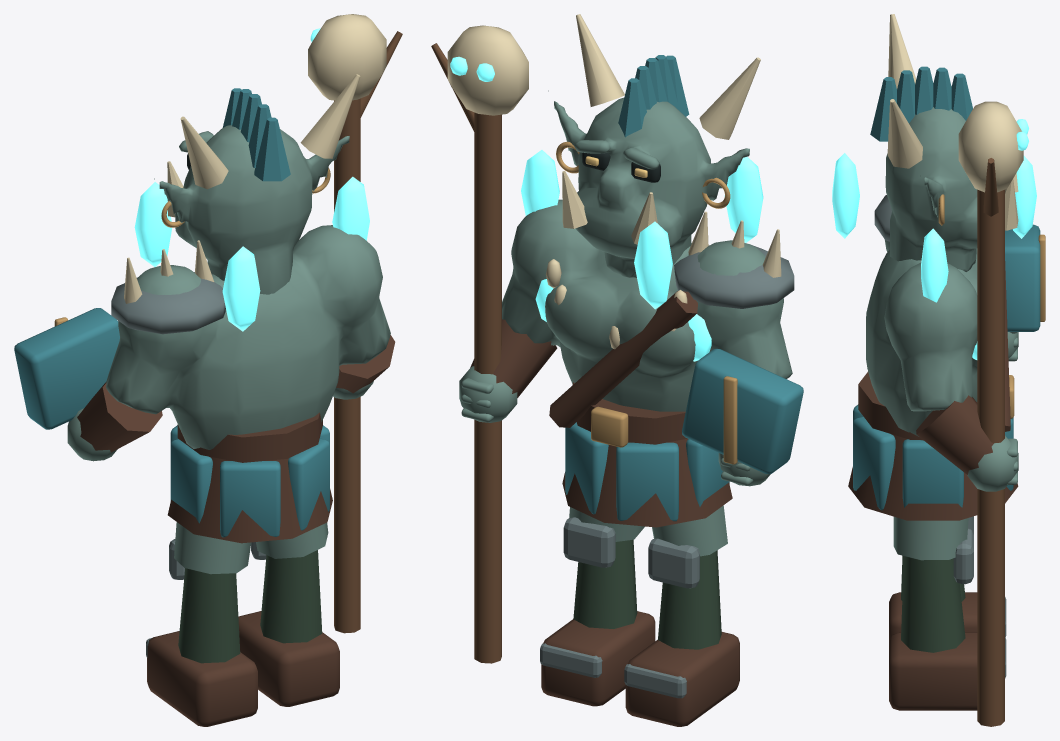
File: host_23.glb
The picture shows the model from 3 angles, left to right: view 1: azimuth 30°, elevation 25°; view 2: azimuth 150°, elevation 25°; view 3: azimuth 270°, elevation 25°; orthographic projection. The views are drawn at different scales.
Visible parts, largest first — view 1: mesh_Skin.002, mesh_Cloth.022, mesh_Leather.002, mesh_Bone.022, mesh_Wood.022, mesh_Leather.022, mesh_Leather.001, mesh_Shadow.022, mesh_Shadow.001, mesh_Iron.002, mesh_Skin.022, mesh_Soul.003 (+3 smaller); view 2: mesh_Skin.002, mesh_Cloth.022, mesh_Wood.022, mesh_Leather.002, mesh_Bone.022, mesh_Leather.022, mesh_Leather.001, mesh_Shadow.022, mesh_Shadow.001, mesh_Iron.002, mesh_Iron.022, mesh_Iron.001 (+8 smaller); view 3: mesh_Skin.002, mesh_Cloth.022, mesh_Wood.022, mesh_Leather.002, mesh_Bone.022, mesh_Leather.001, mesh_Shadow.001, mesh_Skin.001, mesh_Soul.003, mesh_Soul.001, mesh_Soul.002, mesh_Leather.022 (+4 smaller).
Part boxes in pixels (x1=…): mesh_Skin.002: x1=67, y1=125, x2=390, y2=461; mesh_Cloth.022: x1=14, y1=88, x2=329, y2=537; mesh_Leather.002: x1=77, y1=335, x2=395, y2=543; mesh_Bone.022: x1=124, y1=14, x2=386, y2=303; mesh_Wood.022: x1=334, y1=31, x2=402, y2=633; mesh_Leather.022: x1=147, y1=631, x2=257, y2=726; mesh_Leather.001: x1=238, y1=611, x2=339, y2=706; mesh_Shadow.022: x1=178, y1=568, x2=240, y2=663; mesh_Shadow.001: x1=260, y1=550, x2=322, y2=643; mesh_Iron.002: x1=111, y1=272, x2=225, y2=334; mesh_Skin.022: x1=174, y1=522, x2=251, y2=574; mesh_Soul.003: x1=222, y1=246, x2=260, y2=331; mesh_Skin.002: x1=459, y1=90, x2=792, y2=486; mesh_Cloth.022: x1=565, y1=55, x2=803, y2=521; mesh_Wood.022: x1=431, y1=43, x2=501, y2=663; mesh_Leather.002: x1=470, y1=291, x2=732, y2=527; mesh_Bone.022: x1=447, y1=14, x2=781, y2=349; mesh_Leather.022: x1=625, y1=632, x2=739, y2=726; mesh_Leather.001: x1=541, y1=611, x2=655, y2=706; mesh_Shadow.022: x1=658, y1=550, x2=721, y2=649; mesh_Shadow.001: x1=573, y1=539, x2=637, y2=628; mesh_Iron.002: x1=674, y1=245, x2=794, y2=308; mesh_Iron.022: x1=624, y1=538, x2=699, y2=698; mesh_Iron.001: x1=540, y1=517, x2=615, y2=677; mesh_Skin.002: x1=866, y1=107, x2=1018, y2=491; mesh_Cloth.022: x1=853, y1=66, x2=1040, y2=510; mesh_Wood.022: x1=977, y1=158, x2=1004, y2=726; mesh_Leather.002: x1=848, y1=261, x2=1018, y2=520; mesh_Bone.022: x1=887, y1=14, x2=1023, y2=230; mesh_Leather.001: x1=889, y1=632, x2=977, y2=710; mesh_Shadow.001: x1=901, y1=556, x2=965, y2=652; mesh_Skin.001: x1=893, y1=516, x2=968, y2=560; mesh_Soul.003: x1=832, y1=153, x2=859, y2=238; mesh_Soul.001: x1=921, y1=228, x2=948, y2=302; mesh_Soul.002: x1=1013, y1=155, x2=1036, y2=238; mesh_Leather.022: x1=889, y1=592, x2=977, y2=641.
Size of the model in its own units: 1.2 by 1.98 by 0.6004.
